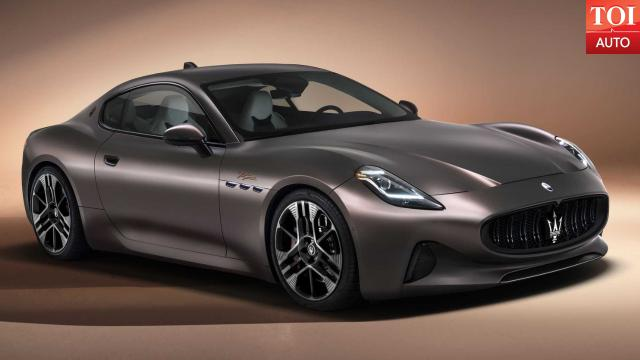maserati: (21, 62, 610, 312)
